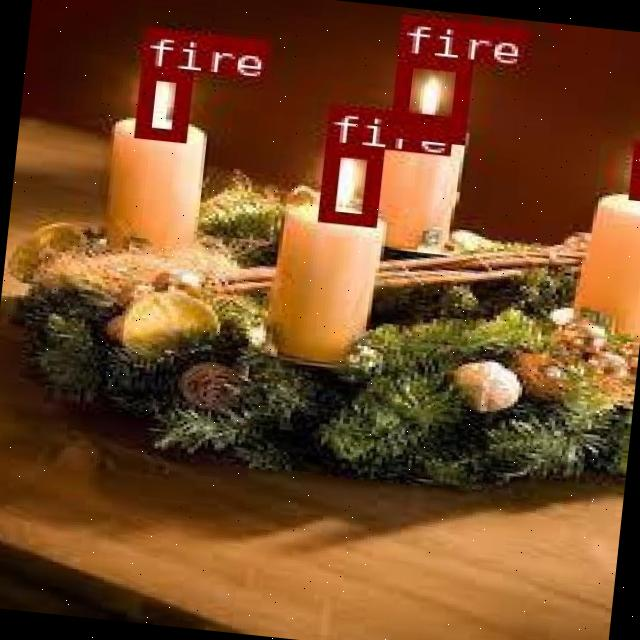fire: (387, 52, 470, 142), (316, 141, 380, 223), (132, 64, 188, 138), (626, 140, 640, 196)
